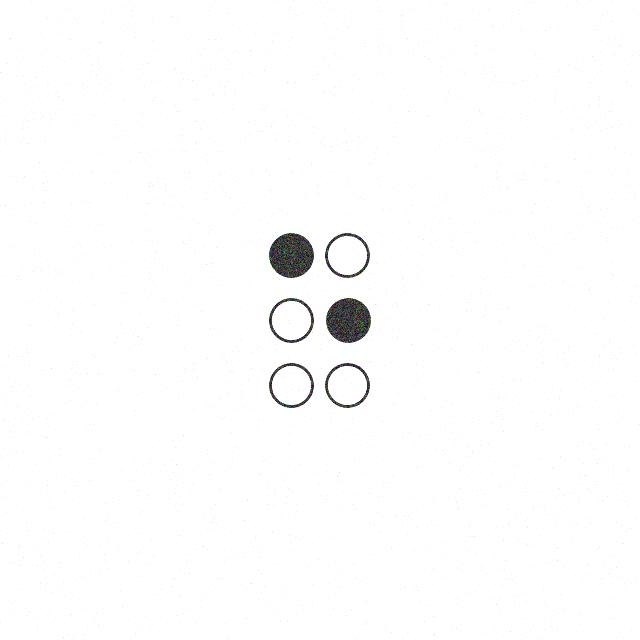E: (262, 225, 374, 414)
